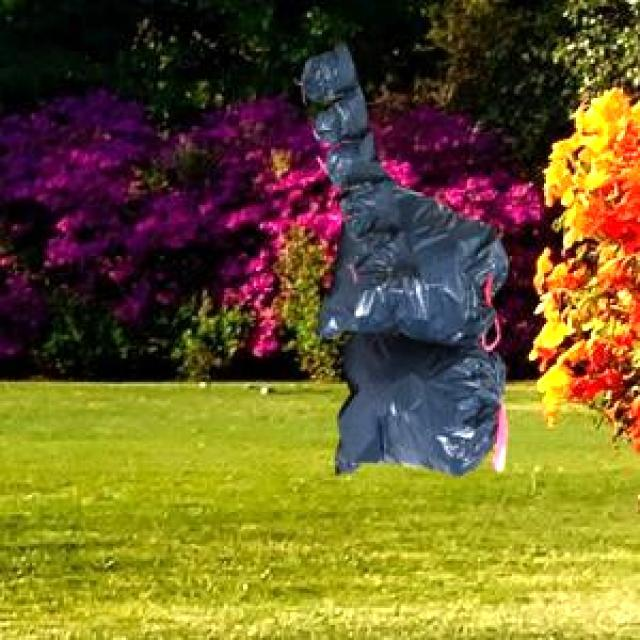Garbage_Bag: (312, 170, 504, 472), (298, 42, 418, 278)
